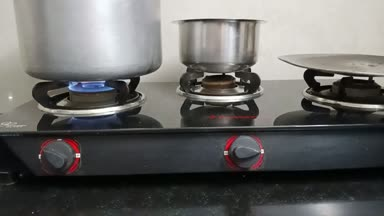flame_gas_off: (182, 65, 274, 172)
flame_gas_on: (26, 76, 152, 175)
